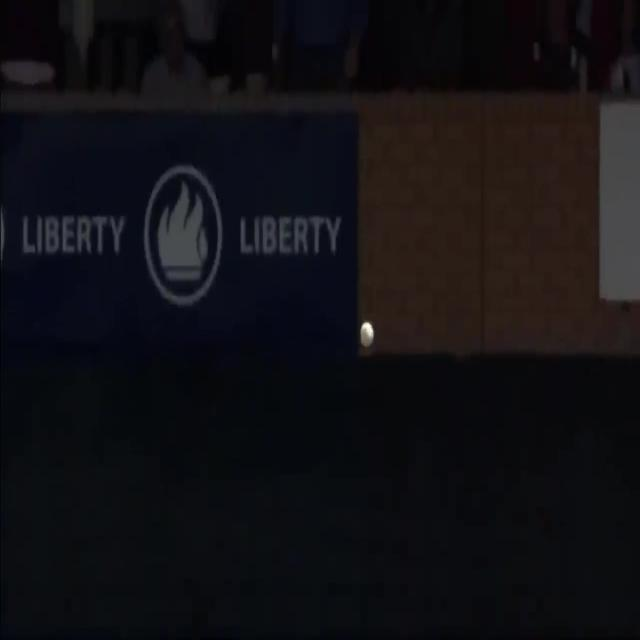Batsman: (356, 312, 377, 358)
